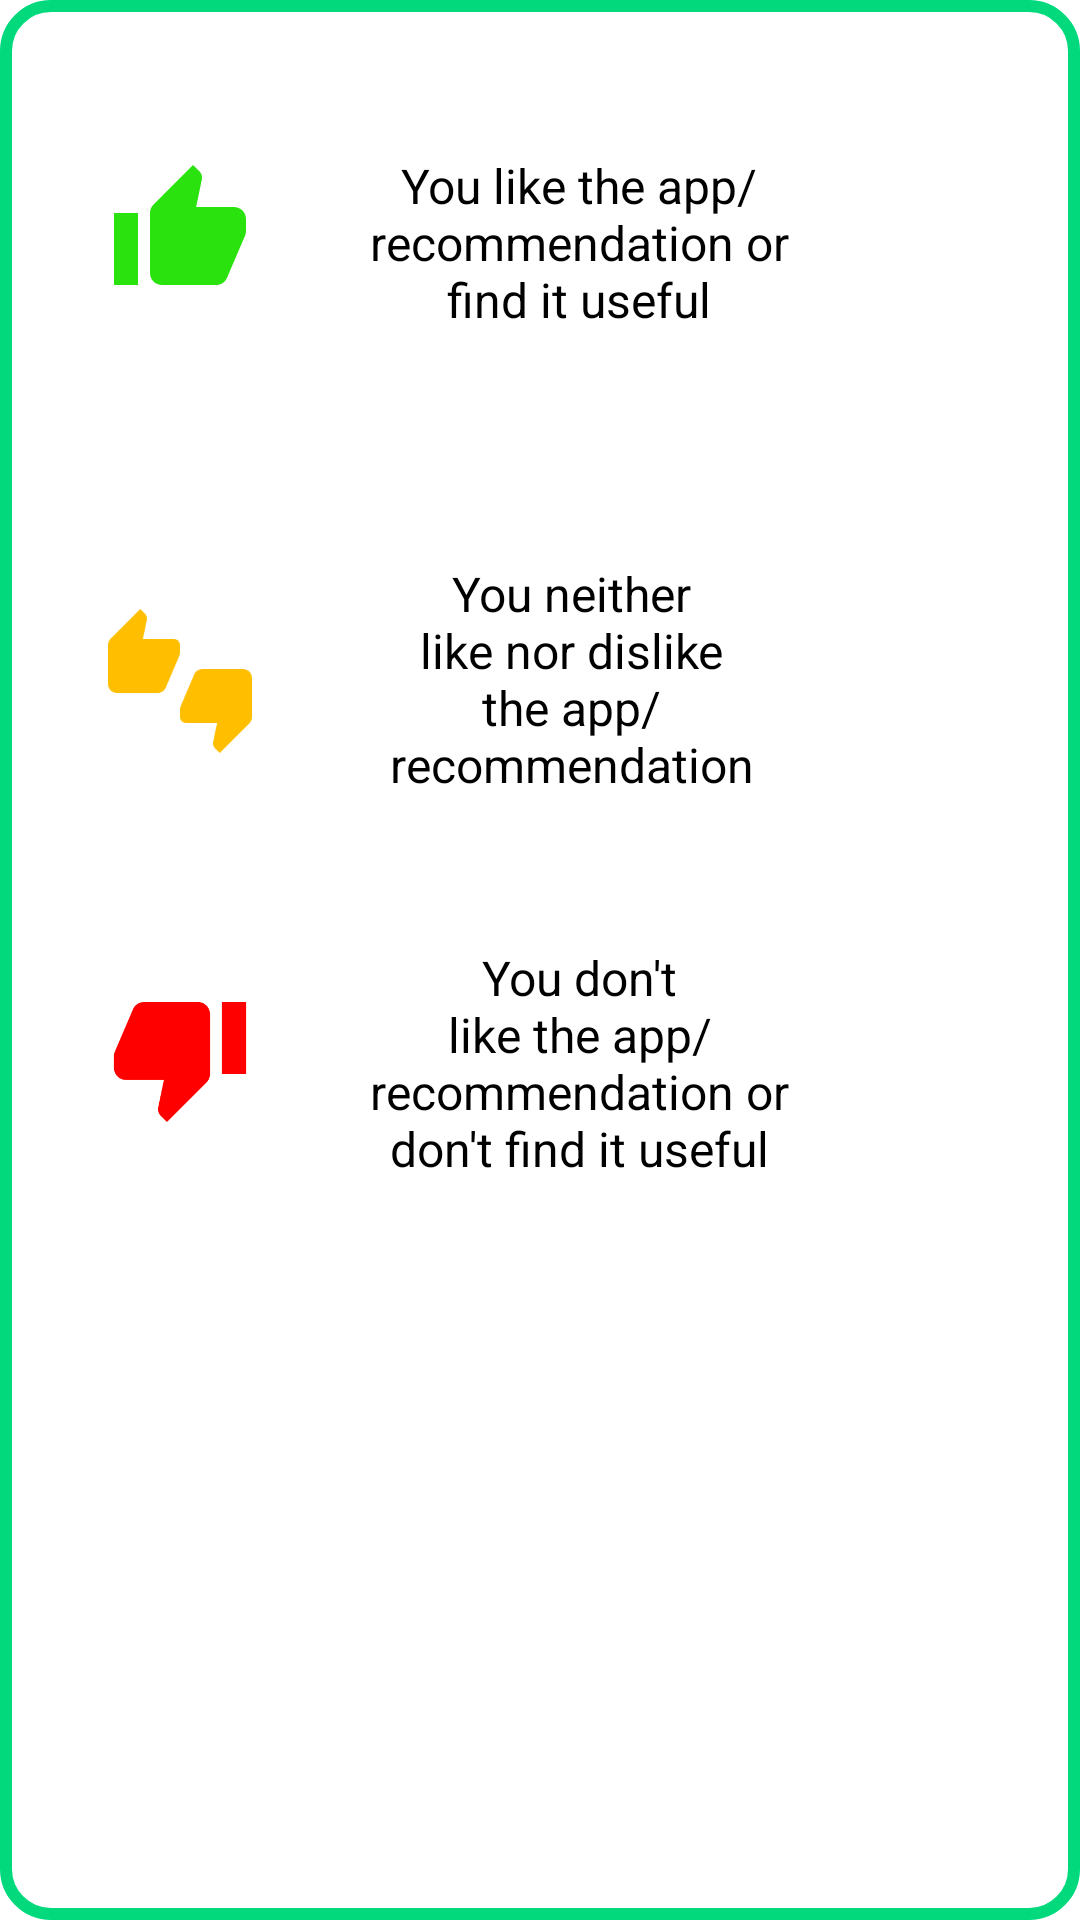

Named icons in this screenshot (1080 × 1920) and their centers, (x=x, y=y):
thumb down: (x=162, y=1060)
thumb up: (x=174, y=225)
